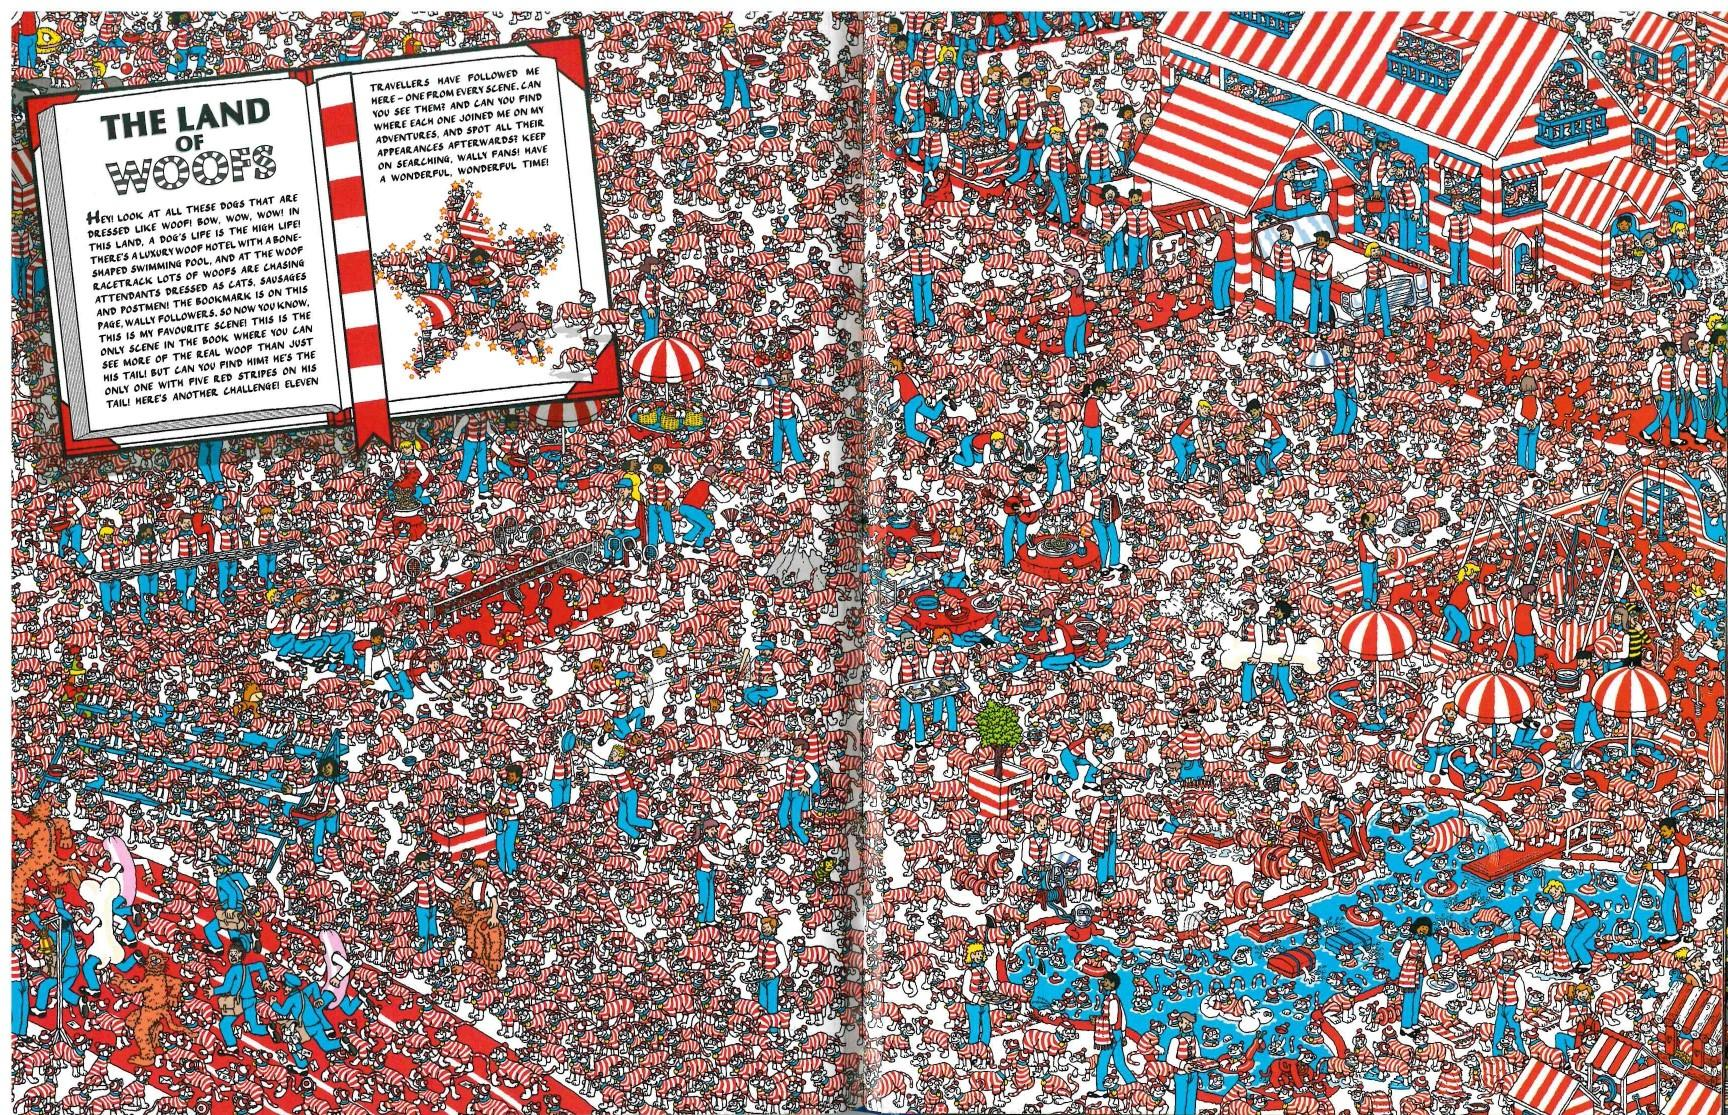waldos: (793, 704, 833, 795)
